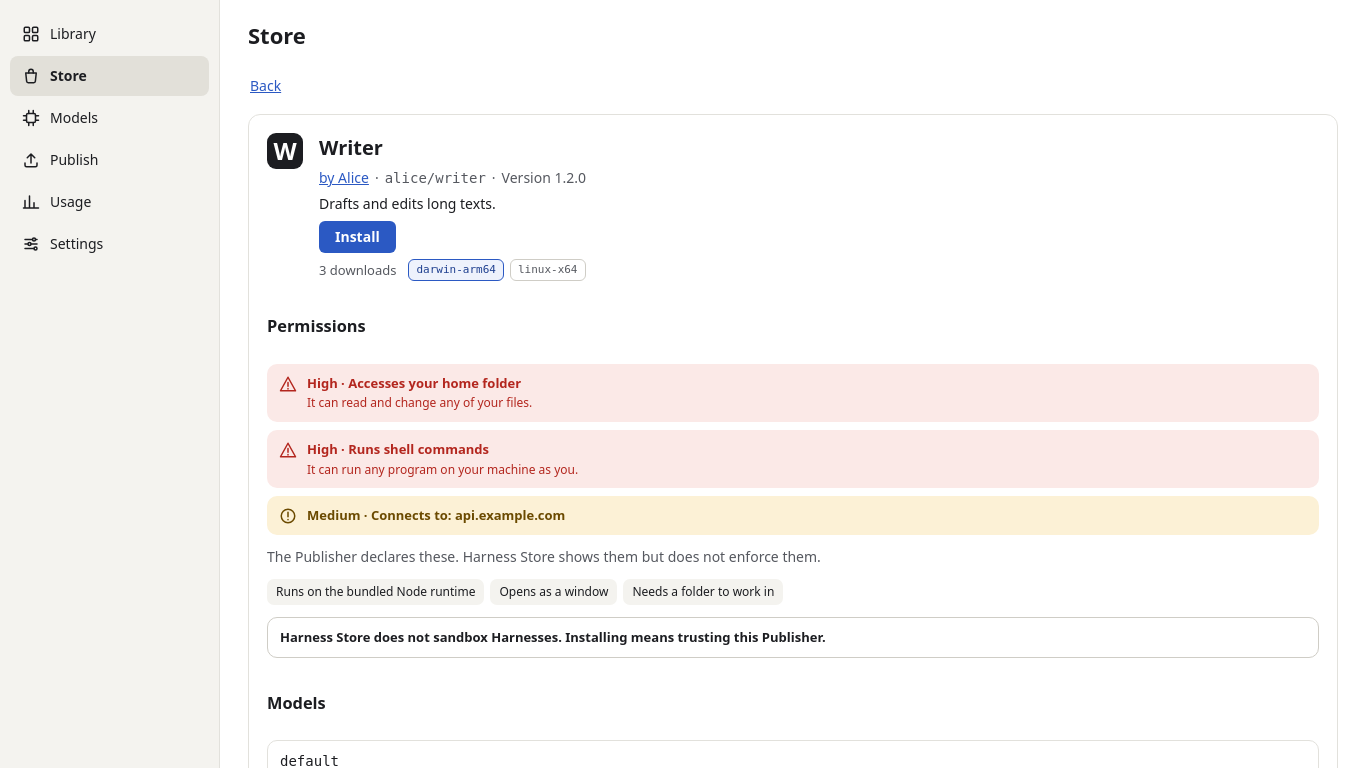
Test: Install on a Store detail page › a checksum error shows under the button, and Install downloads again
Click the button "Install" at (357, 237), box [319,221,396,253]
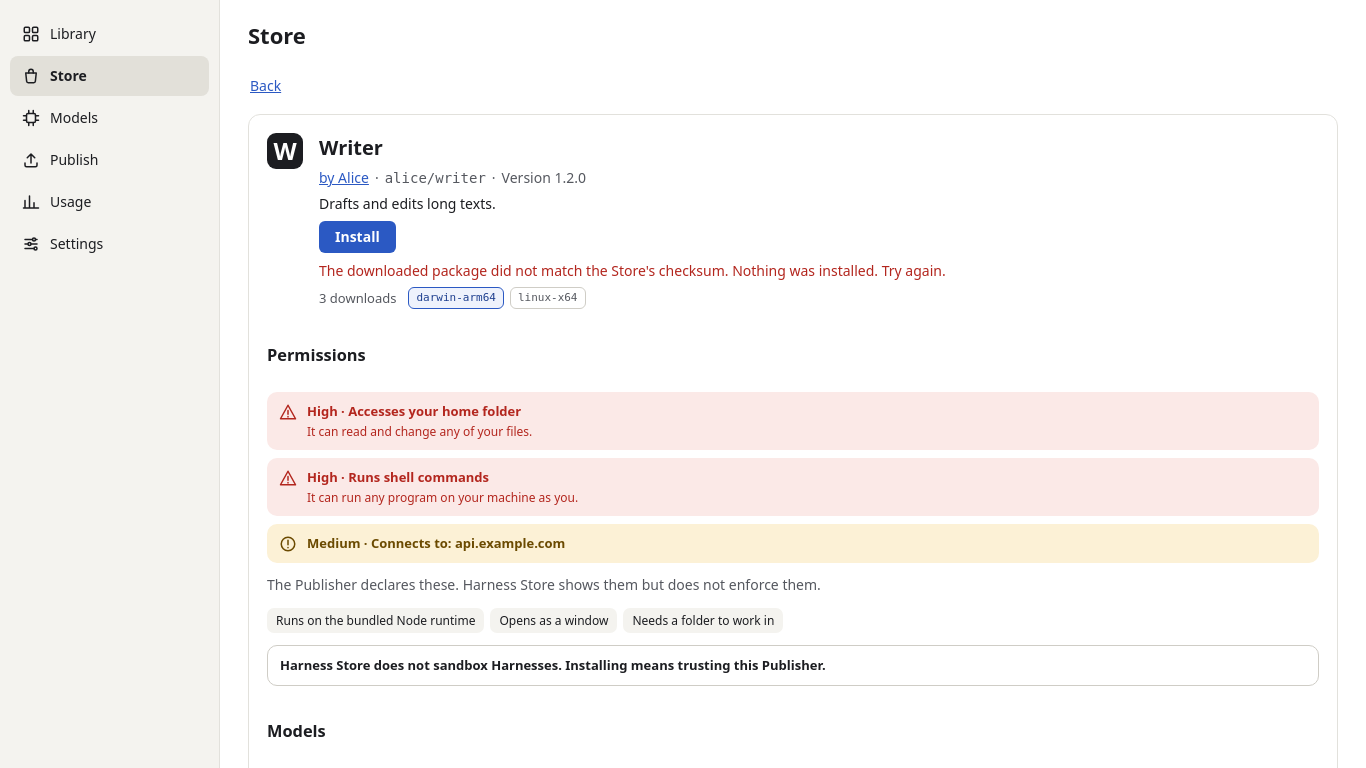
Now the message shows "The downloaded package did not match the Store's checksum. Nothing was installed. Try again.", box [319,261,946,280]
Click the button "Install" at (357, 237), box [319,221,396,253]
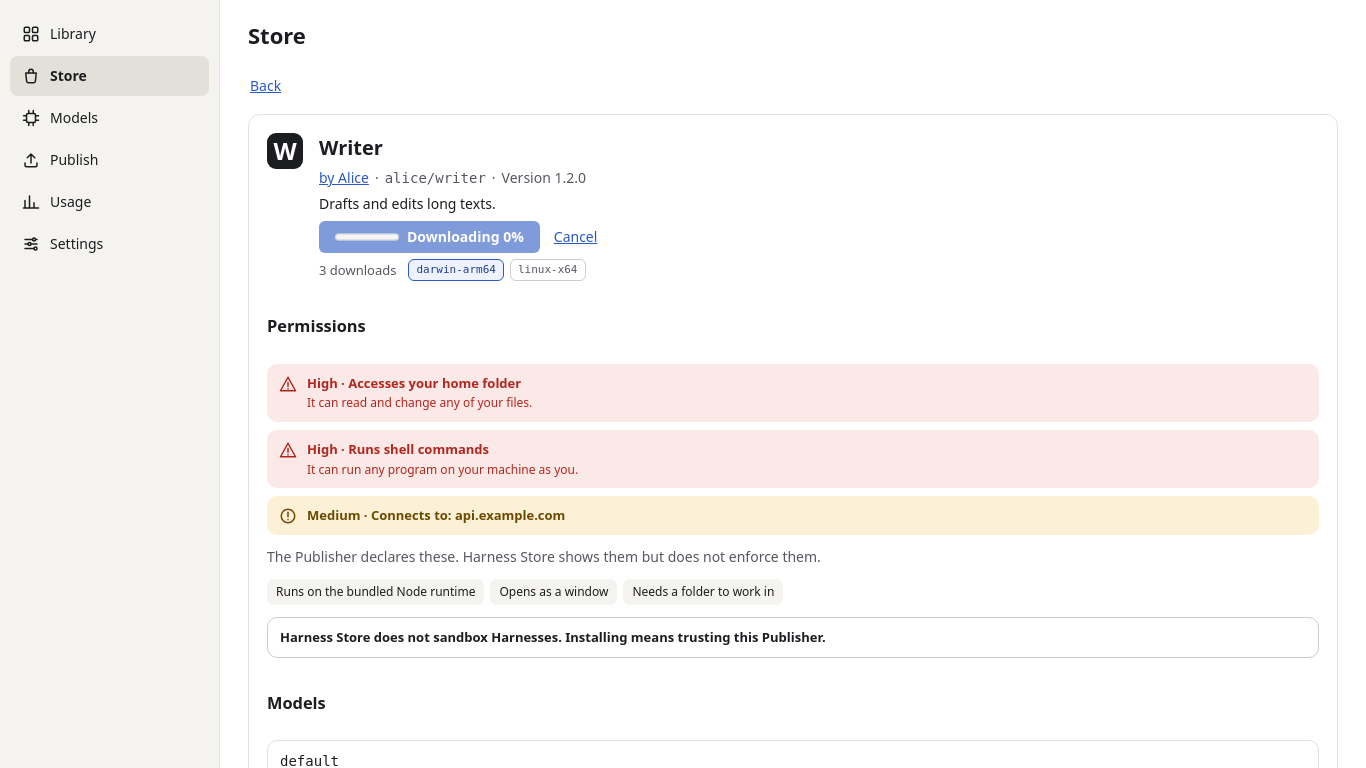
Now the message is gone
